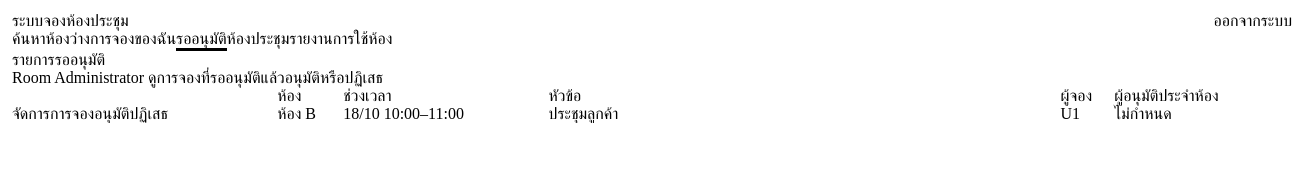
Scenario: FE-mrr-007 pending approvals page (UI-mrr-009) › AC-mrr-013 · AC-mrr-037 · AC-mrr-039 อนุมัติ posts to API-011, says อนุมัติการจองสำเร็จ and the booking leaves the queue
Click the button with test id "ui-mrr-009-approve": [112, 114] box left=94, top=105, right=130, bottom=123
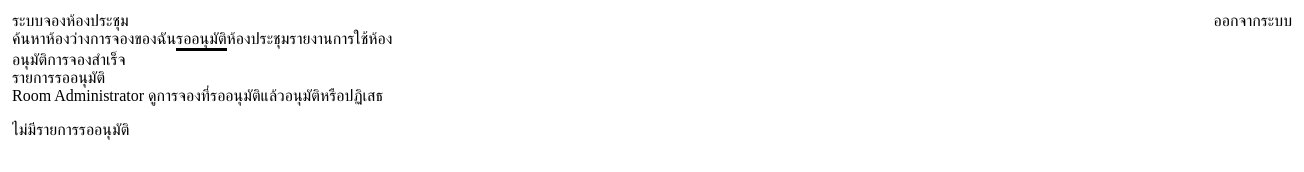
Expected: the heading "รายการรออนุมัติ" is shown, left=12, top=69, right=105, bottom=86
Now the message reads "อนุมัติการจองสำเร็จ", box left=12, top=51, right=126, bottom=68
Now the text "ไม่มีรายการรออนุมัติ" is shown, box left=12, top=121, right=129, bottom=138
